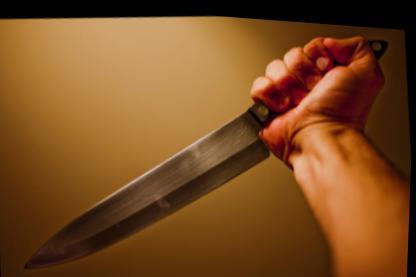knife: (0, 5, 344, 275)
